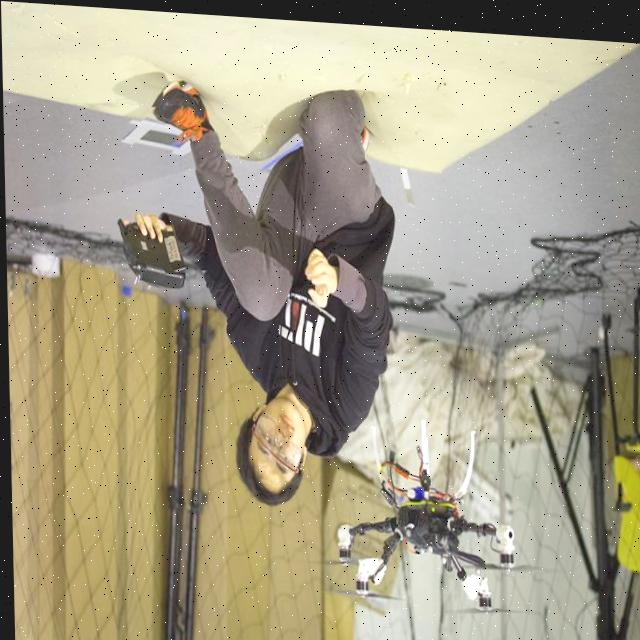drone: (300, 454, 546, 629)
